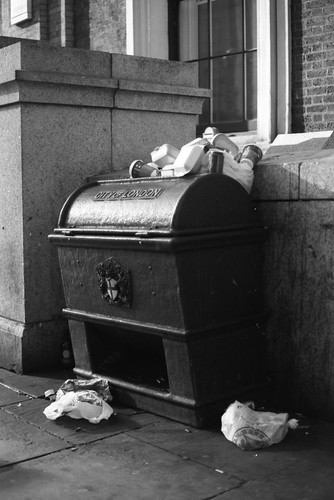trash: (105, 119, 281, 200)
trash can: (47, 129, 294, 462)
